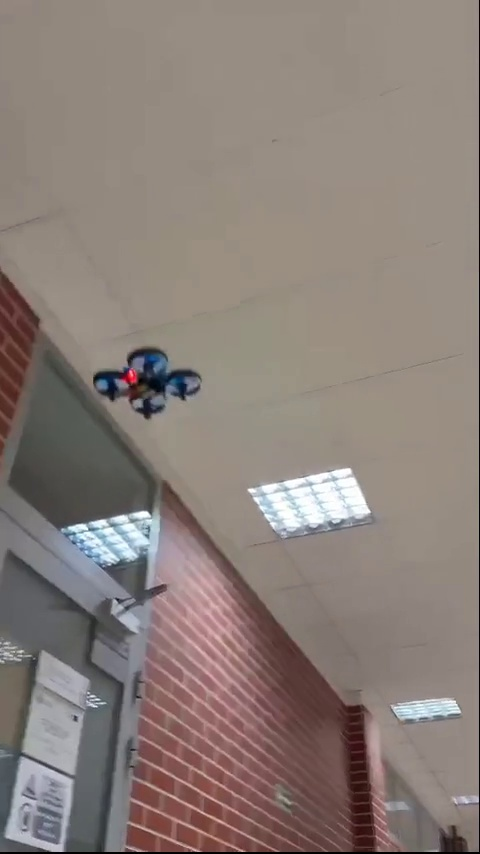drone: (93, 351, 204, 418)
